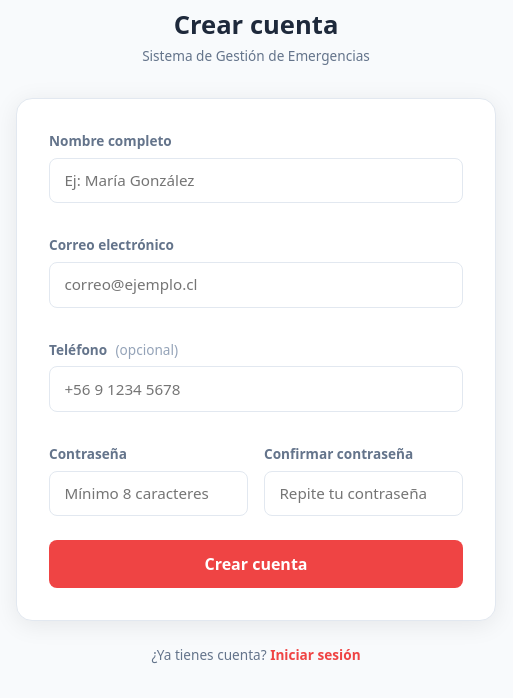
Scenario: Registro — validaciones › muestra error si el nombre esta vacio
Click the button "Crear cuenta".
click(256, 564)  # box x1=49 y1=540 x2=463 y2=588
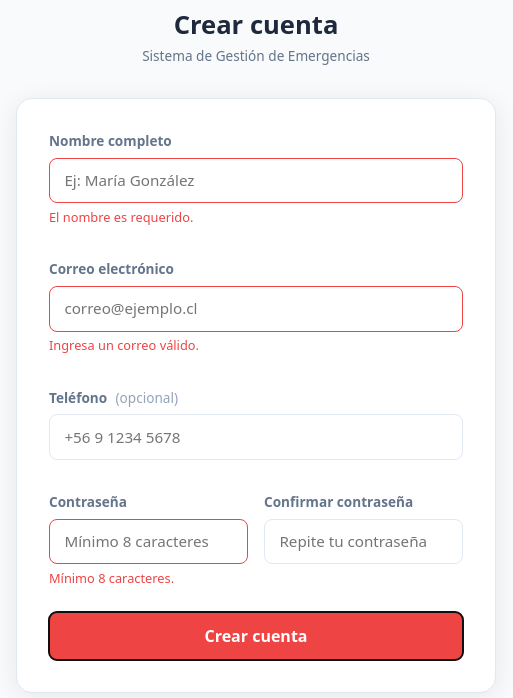
Expected: the text "El nombre es requerido." is shown, x1=49 y1=208 x2=193 y2=226
